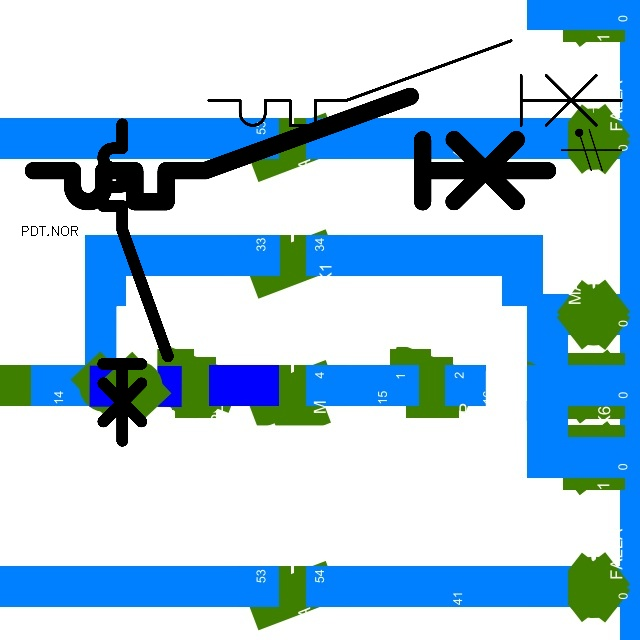interruptor_termomagnetico: (20, 83, 561, 215), (198, 30, 631, 136), (95, 116, 176, 449)
